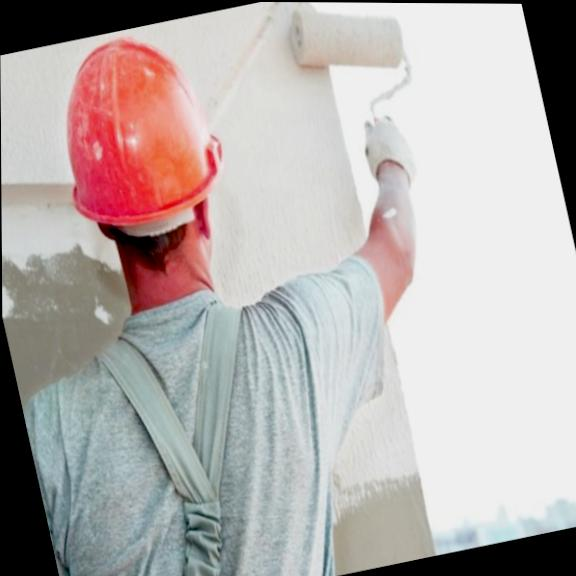no_safety_vest: (2, 245, 391, 576)
